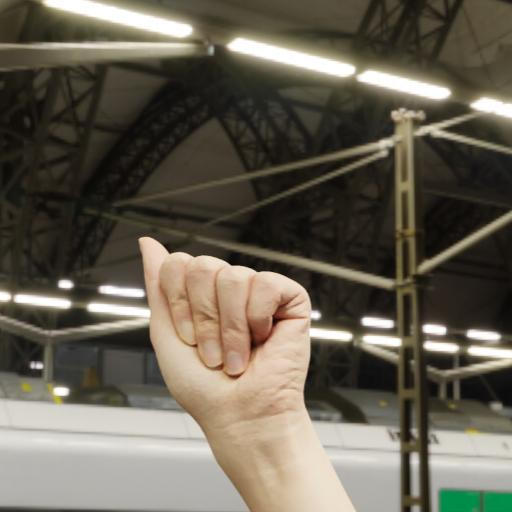A: (120, 213, 355, 449)
